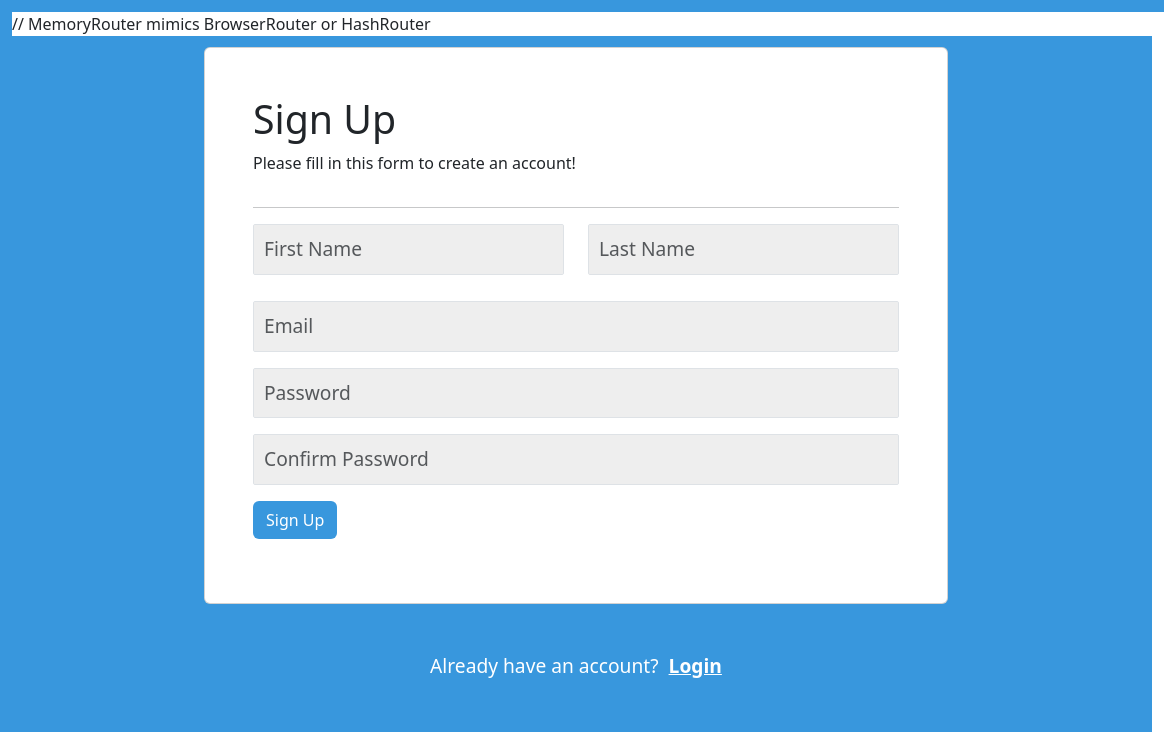
Test case: displays password validation message for invalid password
// setting the invalid password to the password field
Type "InvalidPassword" into the password field with placeholder "Password" at x=576, y=393, box [253,368,899,418]
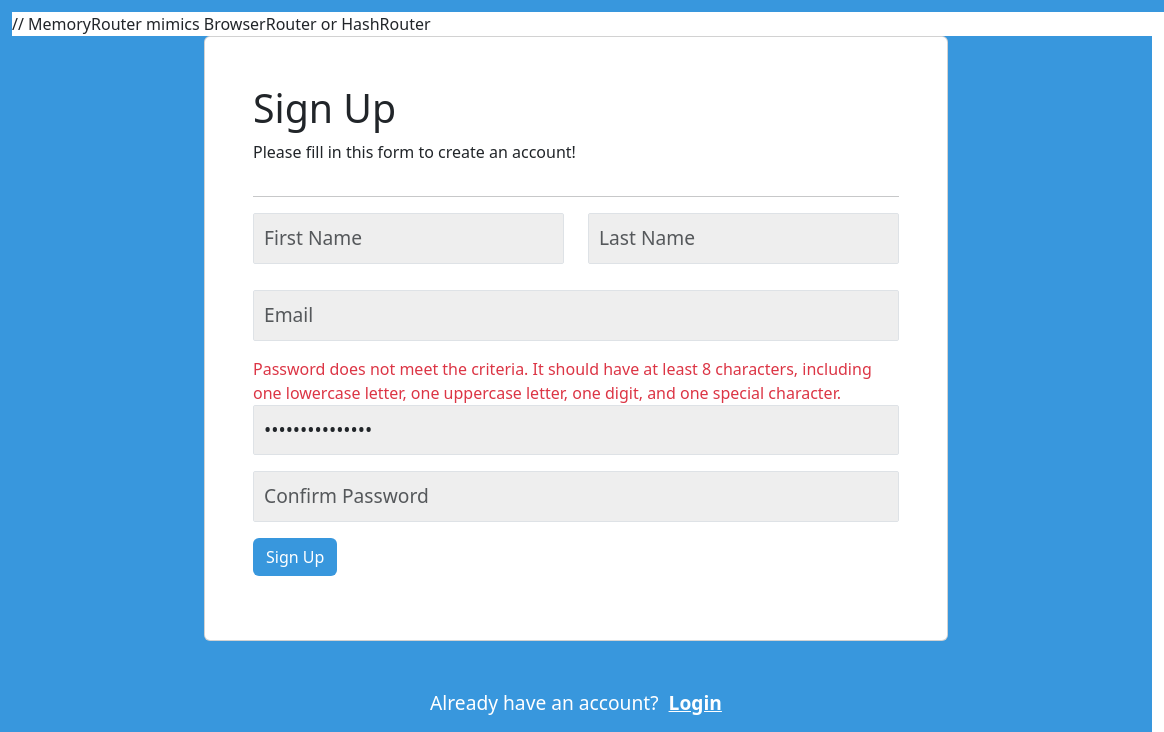
Now the text "Password does not meet the criteria. It should have at least 8 characters, including one lowercase letter, one uppercase" is shown, box [253,358,872,404]
